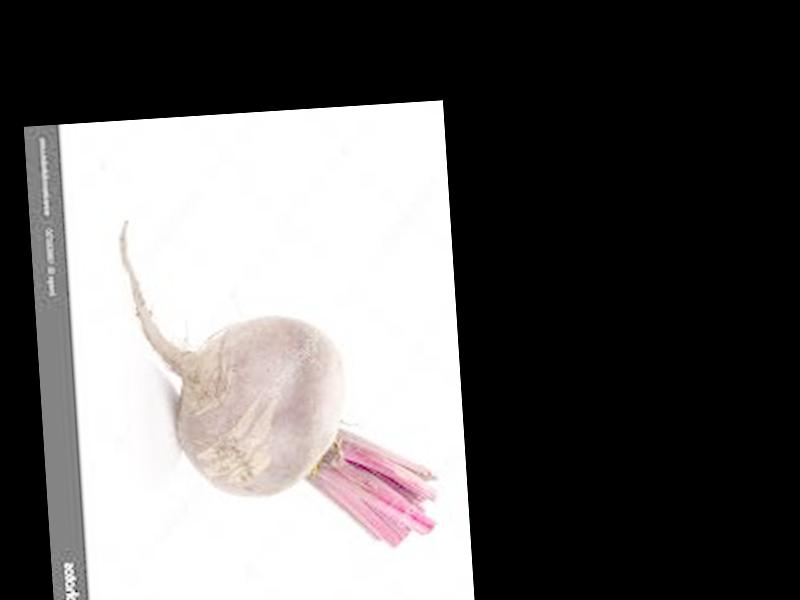Beet: (119, 201, 439, 560)
